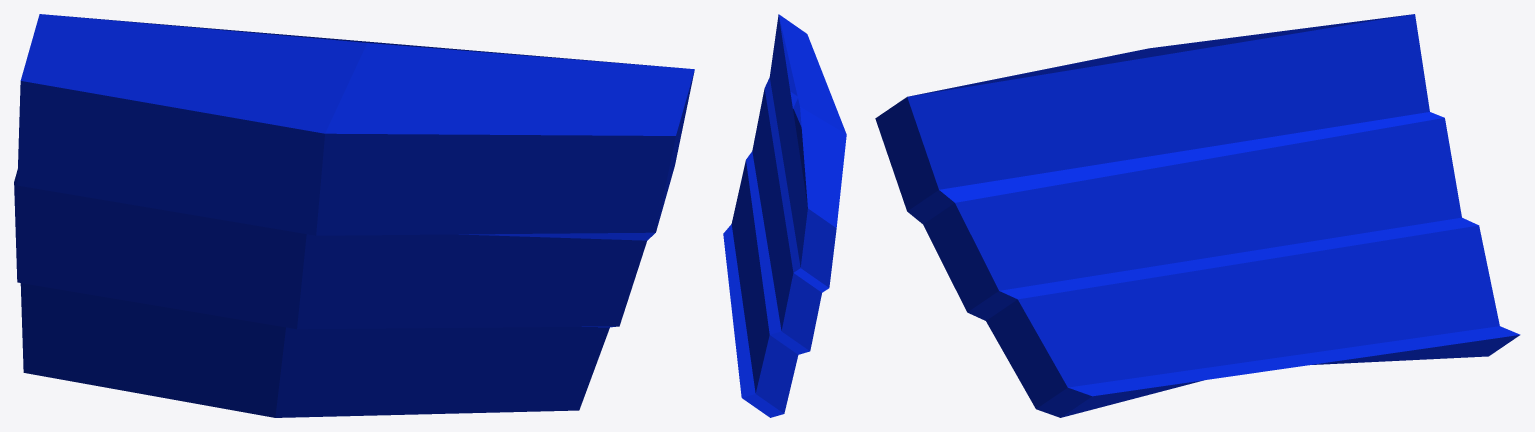
Rendered from Bote Taller_pieza1.fbx.
3 renders of one model, left to right at view 1: azimuth 30°, elevation 25°; view 2: azimuth 150°, elevation 25°; view 3: azimuth 270°, elevation 25°, orthographic. The views are drawn at different scales.
Parts seen in each view (by area): view 1: BaseBote.004; view 2: BaseBote.004; view 3: BaseBote.004.
Part boxes in pixels (x1=…): BaseBote.004: x1=14, y1=14, x2=694, y2=417; BaseBote.004: x1=723, y1=14, x2=846, y2=417; BaseBote.004: x1=875, y1=14, x2=1520, y2=417.
Size of the model in its own units: 85.06 by 95.78 by 142.
